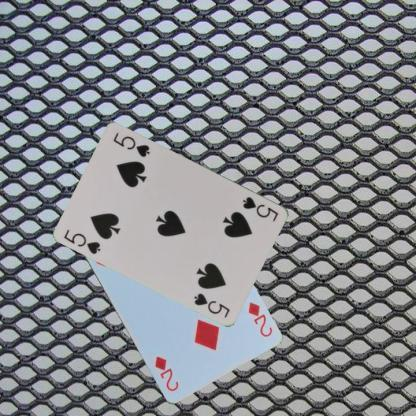2d: (244, 299, 274, 339)
5s: (62, 226, 102, 256), (240, 194, 280, 223)
